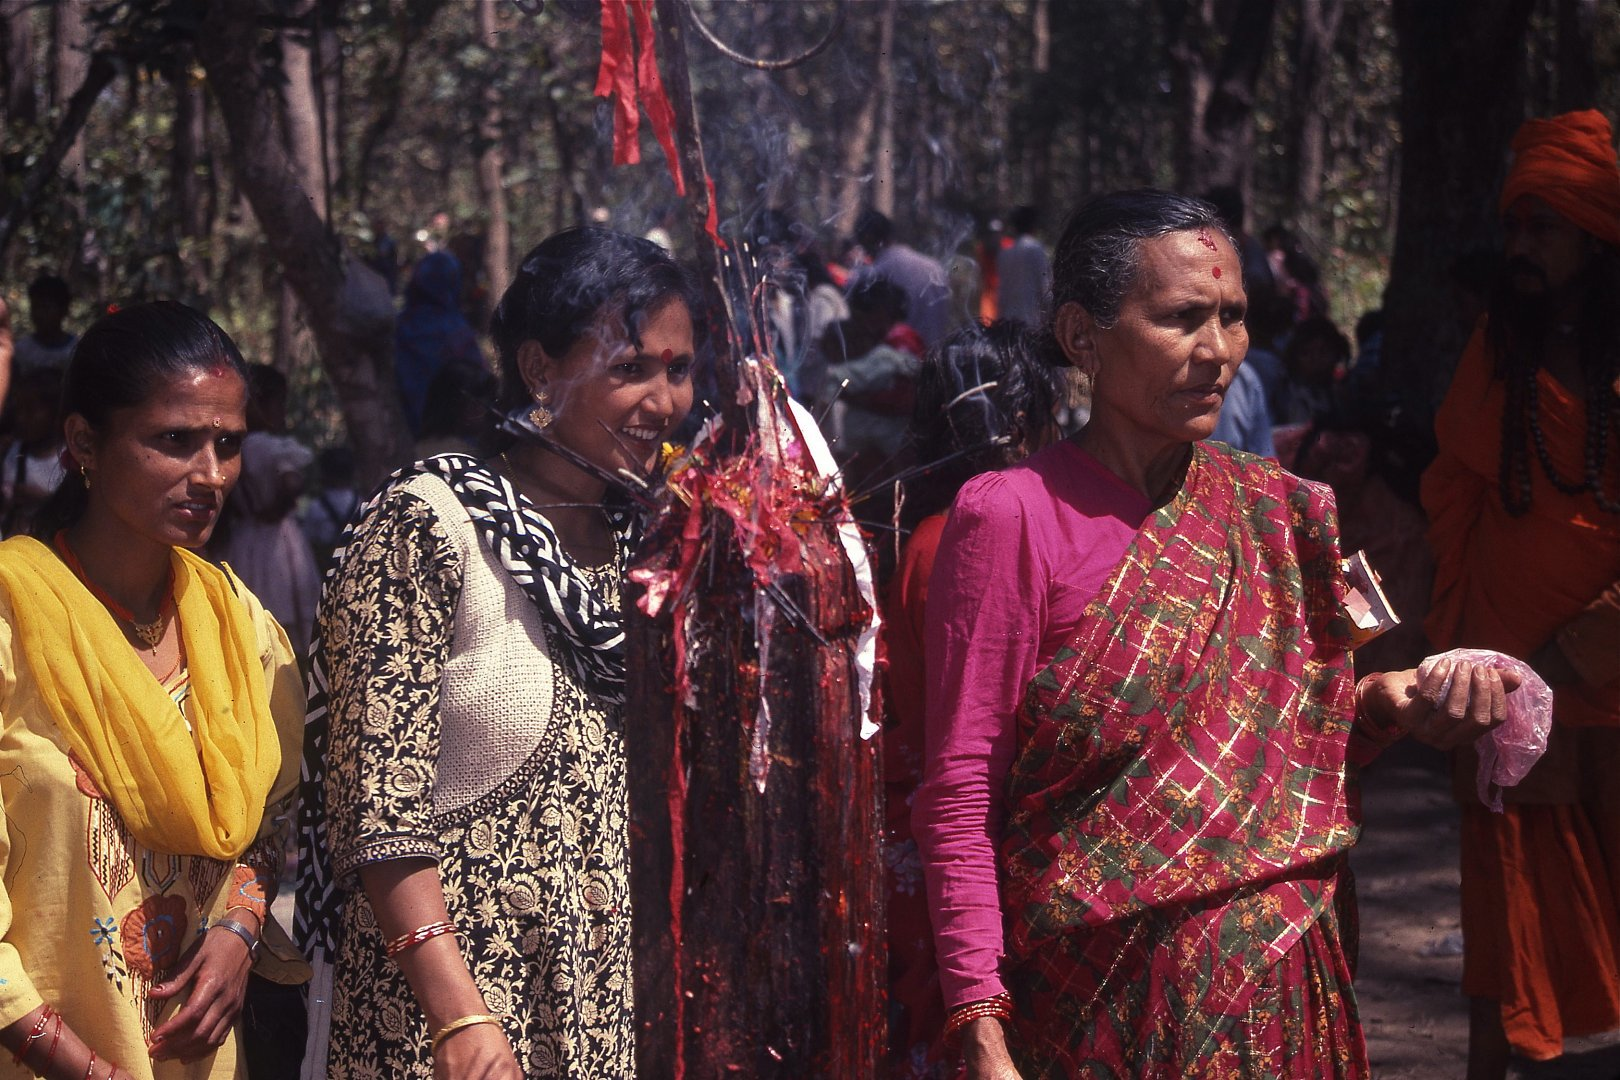human: (899, 177, 1524, 1080), (287, 215, 782, 1080), (1, 261, 302, 1080)
